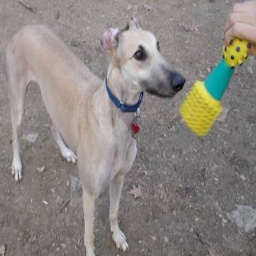dog: (5, 16, 186, 255)
